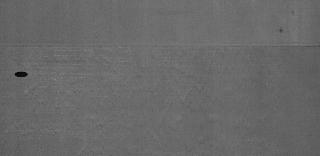inclusion: (276, 25, 284, 35)
punching hole: (14, 70, 30, 80)
silk spot: (35, 56, 287, 144)
welding line: (2, 41, 318, 51)
